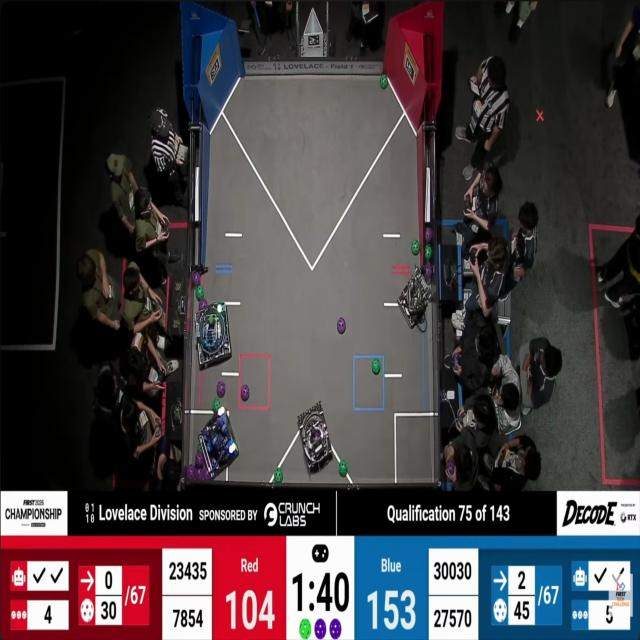artifact_green: (299, 619, 311, 639), (424, 261, 434, 280), (339, 459, 348, 478), (195, 285, 205, 301), (372, 358, 381, 375), (424, 244, 432, 261), (192, 271, 201, 286), (411, 240, 420, 255), (274, 468, 283, 483), (380, 74, 388, 89), (199, 298, 208, 311), (218, 402, 226, 416), (213, 398, 220, 413), (215, 302, 223, 313), (208, 315, 214, 325), (198, 443, 202, 452)
artifact_purple: (315, 619, 326, 639), (330, 619, 341, 639), (446, 458, 456, 476), (217, 414, 228, 428), (195, 452, 204, 469), (192, 271, 201, 287), (241, 385, 249, 402), (337, 318, 345, 335), (425, 263, 433, 280), (425, 227, 433, 243), (217, 381, 225, 397), (187, 465, 195, 479), (453, 353, 460, 369), (199, 299, 208, 311), (203, 468, 211, 480), (196, 468, 204, 479), (184, 466, 188, 477)
